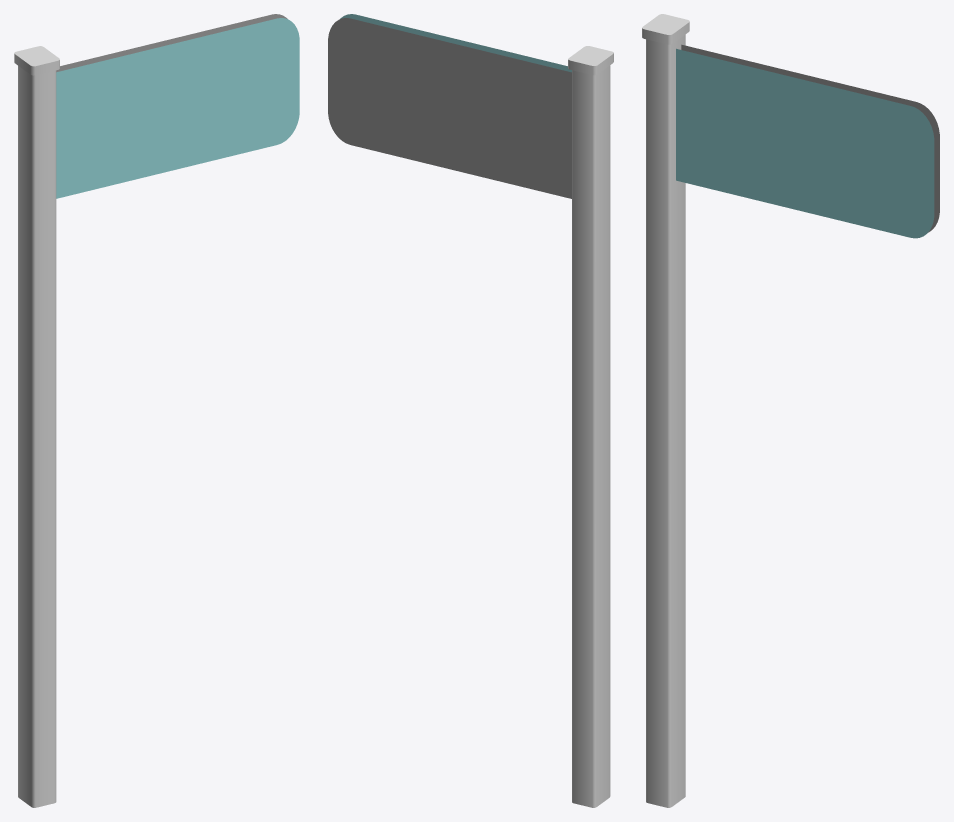
Rendered from placa_direcoes.fbx.
The picture shows the model from 3 angles, left to right: view 1: azimuth 30°, elevation 25°; view 2: azimuth 150°, elevation 25°; view 3: azimuth 330°, elevation 25°; orthographic projection. The views are drawn at different scales.
Visible parts, largest first — view 1: Placa; view 2: Placa; view 3: Placa.
Part boxes in pixels (x1=…): Placa: x1=14, y1=14, x2=299, y2=807; Placa: x1=328, y1=14, x2=613, y2=807; Placa: x1=642, y1=14, x2=939, y2=807.
Size of the model in its own units: 611 by 1580 by 76.03.
